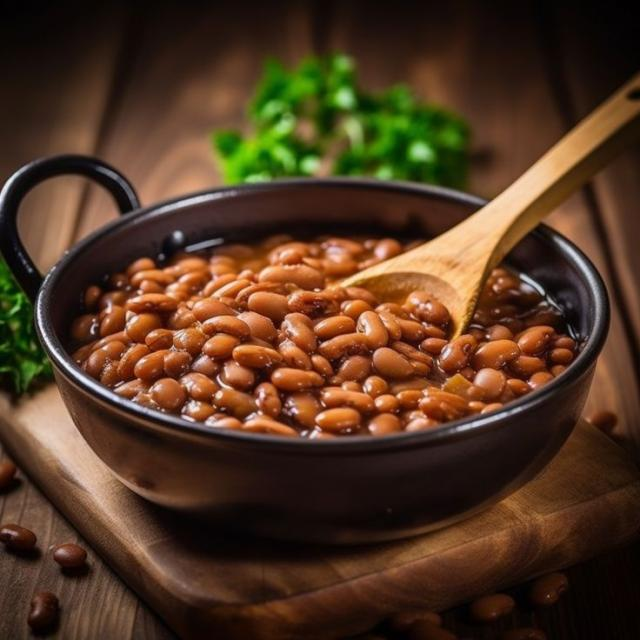beans: (70, 236, 576, 439), (259, 264, 324, 290), (439, 334, 476, 373), (320, 387, 375, 413), (528, 573, 568, 608), (284, 393, 322, 429), (474, 340, 520, 369), (282, 314, 316, 353), (469, 594, 514, 623), (214, 389, 257, 419), (373, 347, 413, 379), (319, 334, 368, 360), (247, 292, 288, 323), (27, 592, 59, 631), (271, 367, 323, 391), (388, 610, 442, 633), (288, 292, 339, 316), (117, 344, 150, 380), (202, 315, 251, 339), (150, 379, 186, 411), (238, 312, 277, 341), (316, 407, 361, 432), (358, 312, 388, 349), (134, 350, 168, 382), (233, 345, 282, 367), (314, 315, 356, 340), (242, 417, 297, 436), (126, 314, 162, 343), (518, 326, 554, 355), (221, 360, 255, 390), (279, 340, 313, 370), (192, 299, 236, 322), (254, 382, 282, 418), (474, 368, 506, 399), (0, 524, 36, 551), (126, 294, 177, 313), (173, 328, 208, 355), (408, 620, 456, 639), (203, 334, 239, 359), (337, 355, 371, 380), (54, 543, 86, 569), (509, 355, 545, 377), (131, 269, 175, 287), (70, 314, 99, 341), (164, 351, 192, 378), (367, 413, 401, 435), (586, 410, 617, 433), (114, 379, 149, 399), (182, 400, 215, 421), (373, 238, 403, 261), (378, 311, 401, 340), (84, 350, 107, 379), (145, 328, 173, 351), (398, 319, 426, 342), (341, 300, 373, 320), (192, 354, 219, 377), (126, 258, 155, 277), (363, 376, 388, 398), (502, 627, 546, 639), (396, 390, 423, 409), (311, 354, 333, 377), (0, 461, 16, 492), (374, 394, 399, 413), (83, 286, 102, 310), (420, 338, 446, 355), (486, 325, 513, 341), (507, 379, 531, 397), (528, 372, 553, 389), (548, 348, 573, 364)
